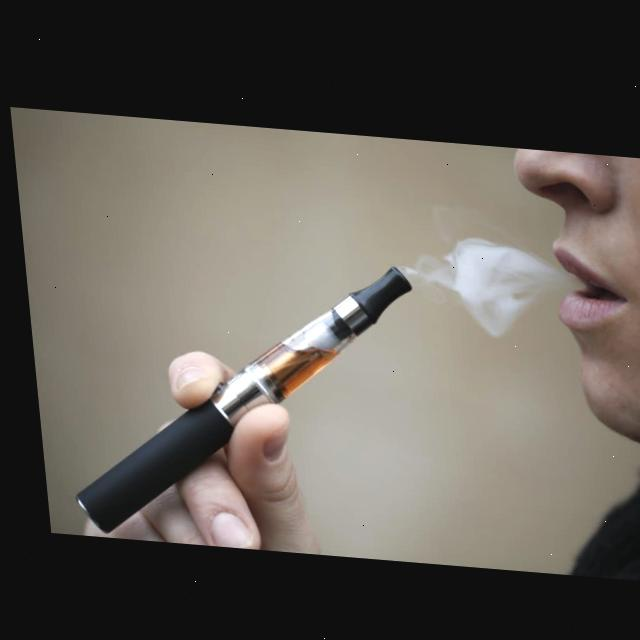vape: (43, 238, 429, 557)
